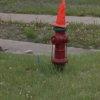Hydrant: (46, 2, 76, 76)
